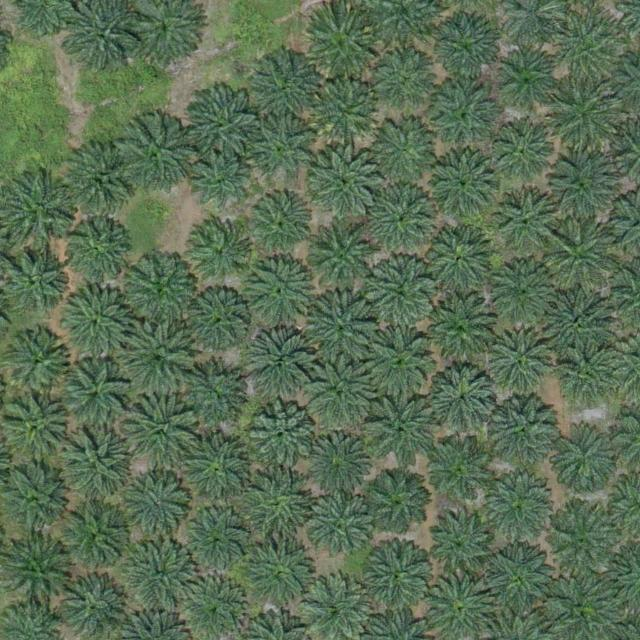Kelapa_Sawit: (301, 7, 379, 85), (181, 86, 259, 164), (115, 119, 193, 197), (0, 172, 78, 250), (119, 317, 197, 395), (120, 249, 198, 327), (236, 468, 314, 546), (243, 537, 321, 615), (55, 422, 133, 500), (121, 390, 199, 468), (549, 78, 619, 149), (242, 330, 312, 401), (64, 143, 134, 214), (547, 423, 617, 494), (488, 395, 558, 466), (127, 538, 197, 609), (59, 503, 129, 574), (1, 538, 71, 609), (1, 393, 71, 464), (430, 15, 500, 85), (548, 15, 618, 85), (545, 152, 615, 222), (546, 216, 616, 286), (541, 287, 611, 357), (484, 327, 554, 397), (424, 147, 494, 217), (421, 222, 491, 292), (426, 296, 496, 366), (367, 114, 437, 184), (368, 183, 438, 253), (366, 255, 436, 325), (310, 144, 380, 214), (309, 224, 379, 294), (305, 294, 375, 364), (242, 253, 312, 323), (304, 362, 374, 432), (363, 326, 433, 396), (428, 367, 498, 437), (58, 285, 128, 355), (57, 358, 127, 428), (545, 507, 615, 577), (423, 440, 493, 510), (483, 478, 553, 548), (485, 542, 555, 612), (429, 510, 499, 580), (362, 539, 432, 609), (365, 398, 435, 468), (300, 426, 370, 496), (306, 494, 376, 564), (247, 400, 317, 470), (181, 434, 251, 504), (494, 50, 556, 113), (490, 119, 552, 182), (492, 186, 554, 249), (491, 259, 553, 322), (432, 83, 494, 146), (372, 48, 434, 111), (313, 79, 375, 142), (257, 55, 319, 118), (249, 116, 311, 179), (247, 192, 309, 255), (188, 149, 250, 212), (2, 249, 64, 312), (6, 329, 68, 392), (367, 471, 429, 534), (184, 514, 246, 577), (129, 476, 191, 539), (187, 221, 249, 283), (185, 289, 247, 351), (176, 366, 238, 428), (64, 217, 126, 279), (559, 352, 605, 398)
